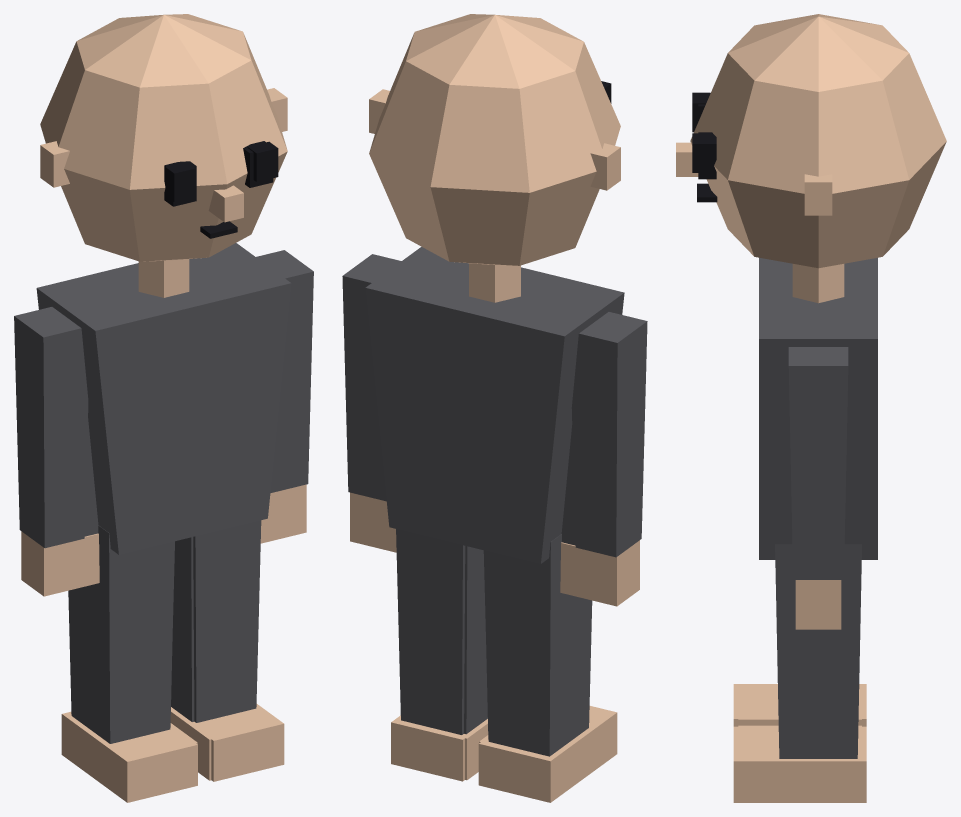
File: NPC_Body.obj
3 views of the same model, side by side, from view 1: azimuth 30°, elevation 25°; view 2: azimuth 150°, elevation 25°; view 3: azimuth 270°, elevation 25° (orthographic).
Visible parts, largest first — view 1: NPC_Body_Male_Torso, NPC_Body_Male_Head, NPC_Body_Male_LegL, NPC_Body_Male_ArmL, NPC_Body_Male_LegR, NPC_Body_Male_ArmR, NPC_Body_Female_LegR, NPC_Body_Female_ArmL, NPC_Body_Female_Head, NPC_Body_Female_Torso, NPC_Body_Female_LegL, NPC_Body_Female_ArmR; view 2: NPC_Body_Male_Torso, NPC_Body_Male_Head, NPC_Body_Male_LegL, NPC_Body_Male_ArmL, NPC_Body_Male_LegR, NPC_Body_Male_ArmR, NPC_Body_Female_LegR, NPC_Body_Female_ArmL, NPC_Body_Female_Torso; view 3: NPC_Body_Male_Head, NPC_Body_Male_Torso, NPC_Body_Male_LegR, NPC_Body_Male_ArmR, NPC_Body_Female_LegL, NPC_Body_Female_LegR, NPC_Body_Female_Head, NPC_Body_Male_LegL.
Part boxes in pixels (box(x1,y1,x2,y2)): NPC_Body_Male_Torso: box(36, 243, 291, 554); NPC_Body_Male_Head: box(40, 14, 287, 297); NPC_Body_Male_LegL: box(61, 525, 197, 802); NPC_Body_Male_ArmL: box(14, 307, 88, 596); NPC_Body_Male_LegR: box(178, 520, 284, 781); NPC_Body_Male_ArmR: box(256, 250, 313, 541); NPC_Body_Female_LegR: box(170, 537, 212, 780); NPC_Body_Female_ArmL: box(40, 308, 99, 590); NPC_Body_Female_Head: box(49, 98, 279, 235); NPC_Body_Female_Torso: box(88, 290, 181, 322); NPC_Body_Female_LegL: box(143, 641, 197, 753); NPC_Body_Female_ArmR: box(258, 257, 286, 543); NPC_Body_Male_Torso: box(365, 247, 624, 563); NPC_Body_Male_Head: box(369, 14, 620, 302); NPC_Body_Male_LegL: box(478, 534, 617, 802); NPC_Body_Male_ArmL: box(571, 312, 647, 606); NPC_Body_Male_LegR: box(391, 529, 487, 781); NPC_Body_Male_ArmR: box(342, 254, 401, 550); NPC_Body_Female_LegR: box(452, 546, 488, 780); NPC_Body_Female_ArmL: box(560, 313, 620, 601); NPC_Body_Female_Torso: box(518, 276, 599, 318); NPC_Body_Male_Head: box(676, 14, 946, 303); NPC_Body_Male_Torso: box(759, 257, 877, 559); NPC_Body_Male_LegR: box(733, 544, 866, 802); NPC_Body_Male_ArmR: box(788, 347, 848, 629); NPC_Body_Female_LegL: box(738, 688, 861, 725); NPC_Body_Female_LegR: box(738, 725, 861, 756); NPC_Body_Female_Head: box(683, 104, 832, 202); NPC_Body_Male_LegL: box(733, 684, 866, 726).
Bounding box in the file's own units: 0.69 × 1.8 × 0.5908.
